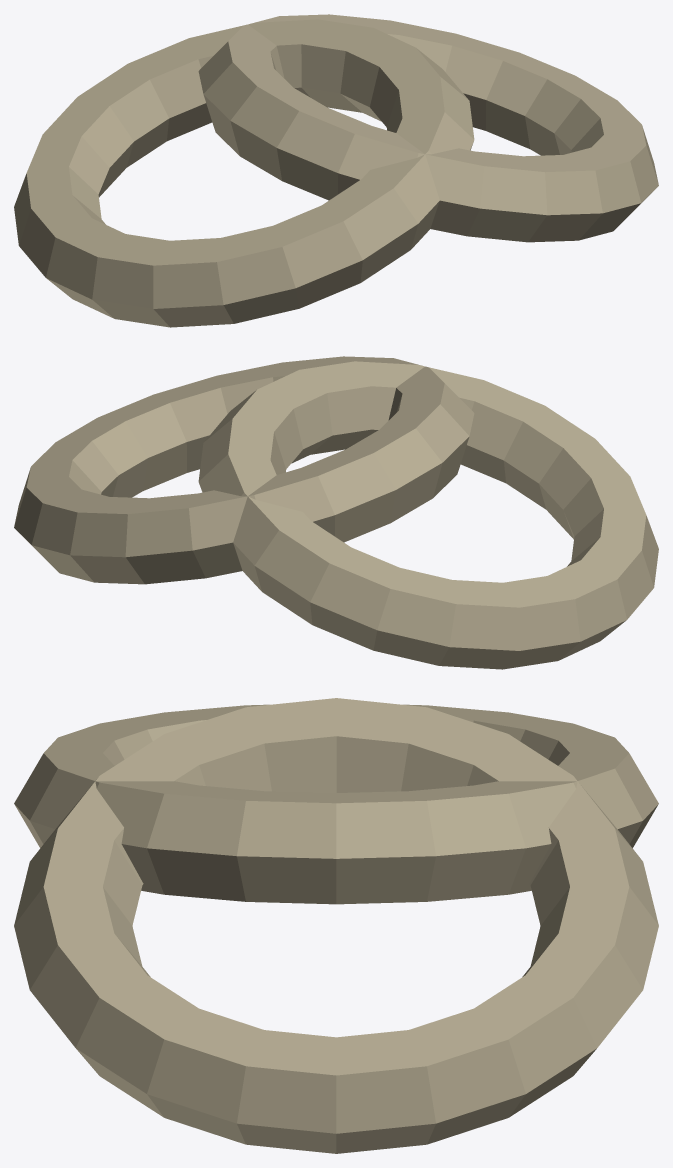
File: rope_knot.glb
3 views of the same model, one above another, from view 1: azimuth 30°, elevation 25°; view 2: azimuth 150°, elevation 25°; view 3: azimuth 270°, elevation 25° (orthographic). The views are drawn at different scales.
Visible parts, largest first — view 1: Torus.005, Torus.006; view 2: Torus.005, Torus.006; view 3: Torus.006, Torus.005.
Boxes of the visible parts, x1,y1,x2,y2 form: Torus.005: [14, 19, 474, 327]; Torus.006: [198, 14, 658, 242]; Torus.005: [198, 361, 658, 669]; Torus.006: [14, 356, 474, 584]; Torus.006: [14, 698, 658, 1153]; Torus.005: [14, 704, 658, 904].
Bounding box in the file's own units: 0.1386 × 0.0383 × 0.098.
